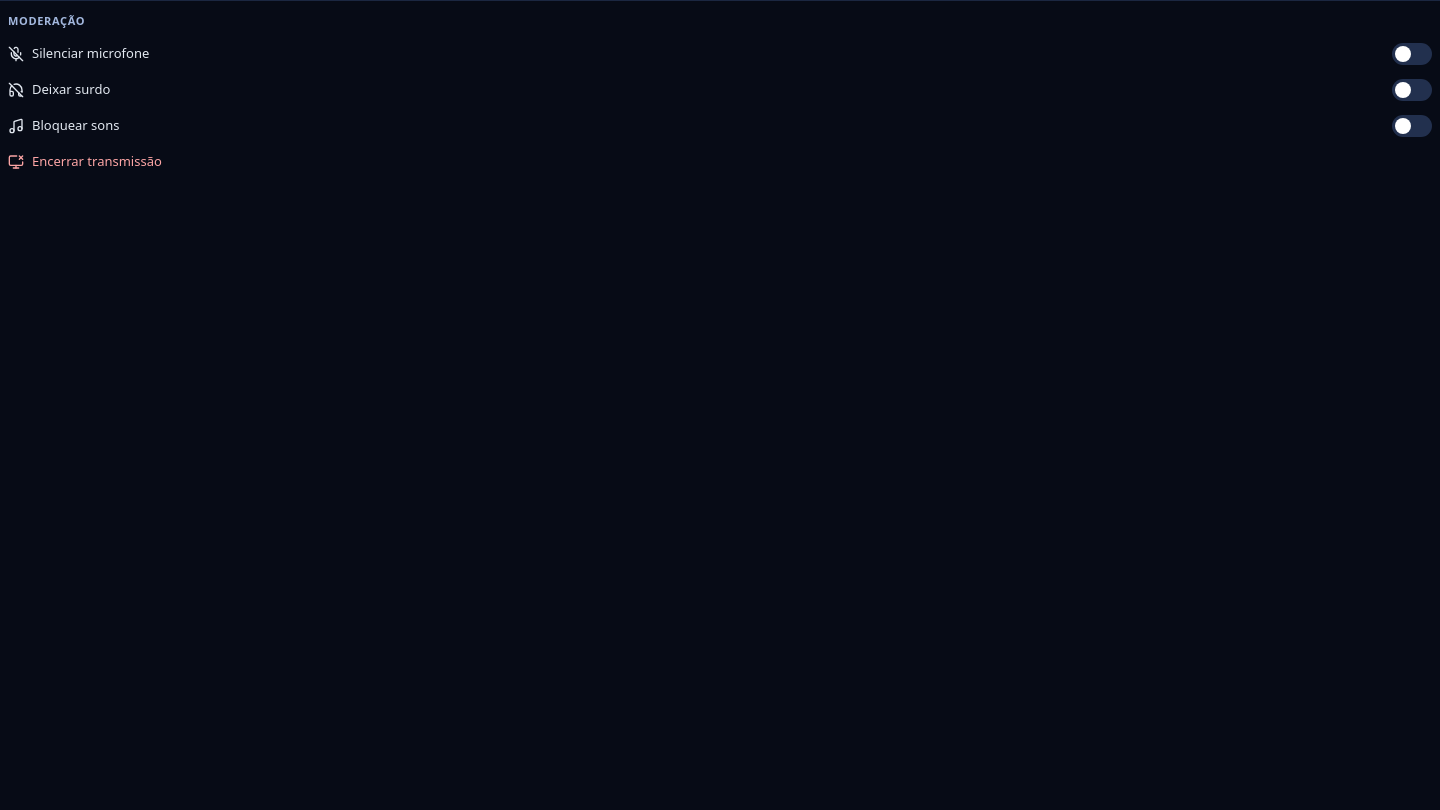
moderar a voz pelo cartão › Encerrar transmissão pergunta antes, e o Shift pula
This screenshot has width=1440, height=810.
Later steps or results of the test are not shown.
Click the button "Encerrar transmissão".
click(97, 161)  # box [0,146,1439,178]
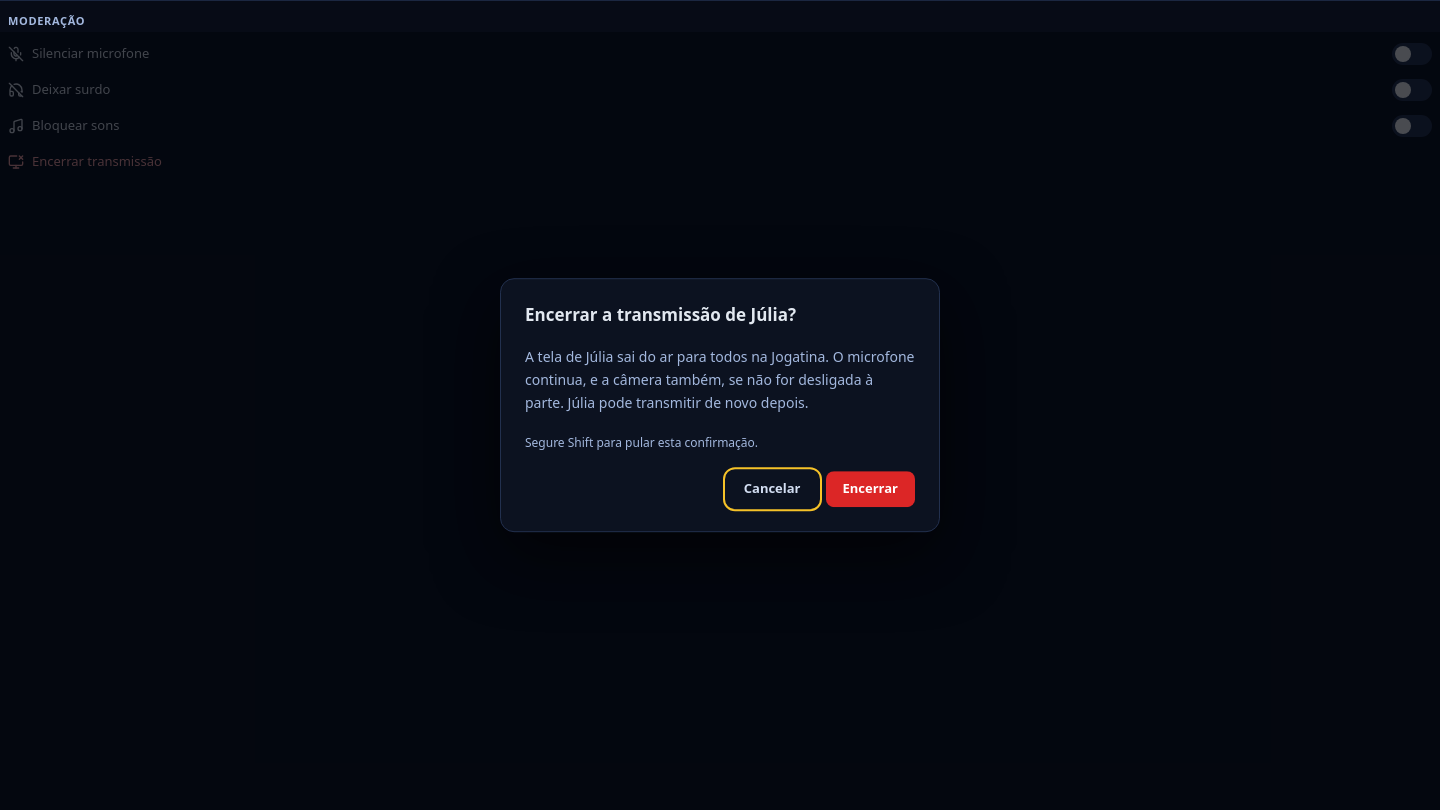
Result: the heading "Encerrar a transmissão de Júlia?" is shown at [525,303,796,326]
